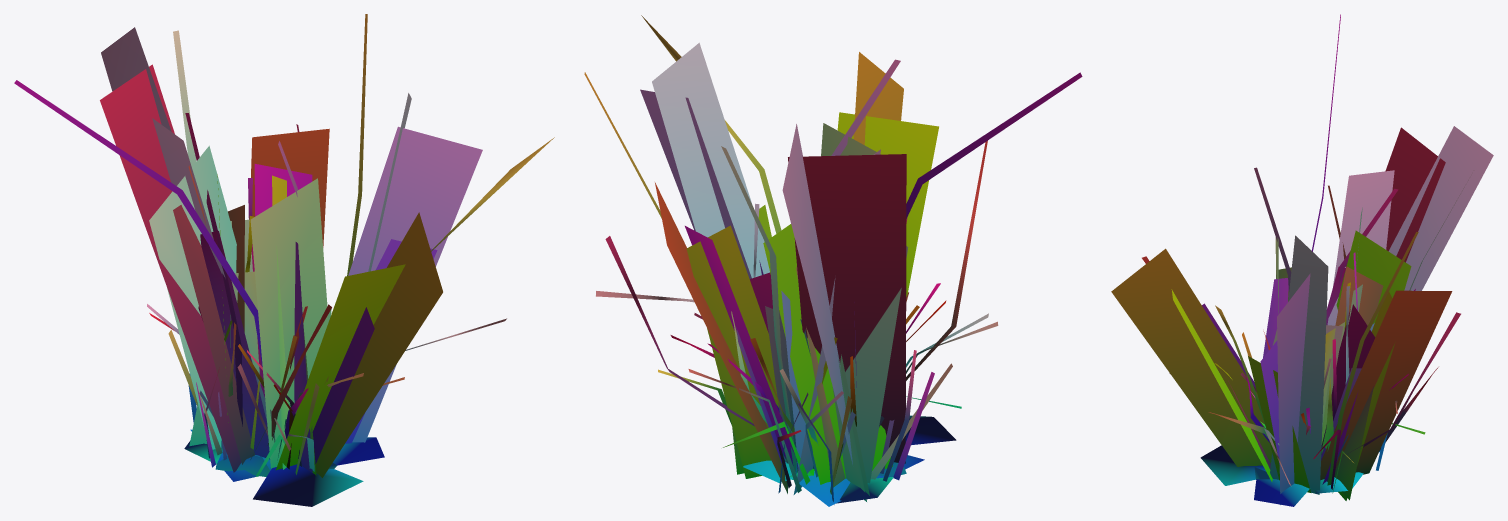
File: uddmcgbia_VarF_LOD2.fbx
The picture shows the model from 3 angles, left to right: view 1: azimuth 30°, elevation 25°; view 2: azimuth 150°, elevation 25°; view 3: azimuth 270°, elevation 25°; orthographic projection. The views are drawn at different scales.
Parts seen in each view (by area): view 1: _b36e_VarF_LOD3; view 2: _b36e_VarF_LOD3; view 3: _b36e_VarF_LOD3.
Part boxes in pixels (x1,y1,x2,y2): _b36e_VarF_LOD3: [14, 14, 554, 506]; _b36e_VarF_LOD3: [584, 15, 1082, 506]; _b36e_VarF_LOD3: [1111, 14, 1493, 506].
Size of the model in its own units: 53.84 by 47.48 by 44.94.
